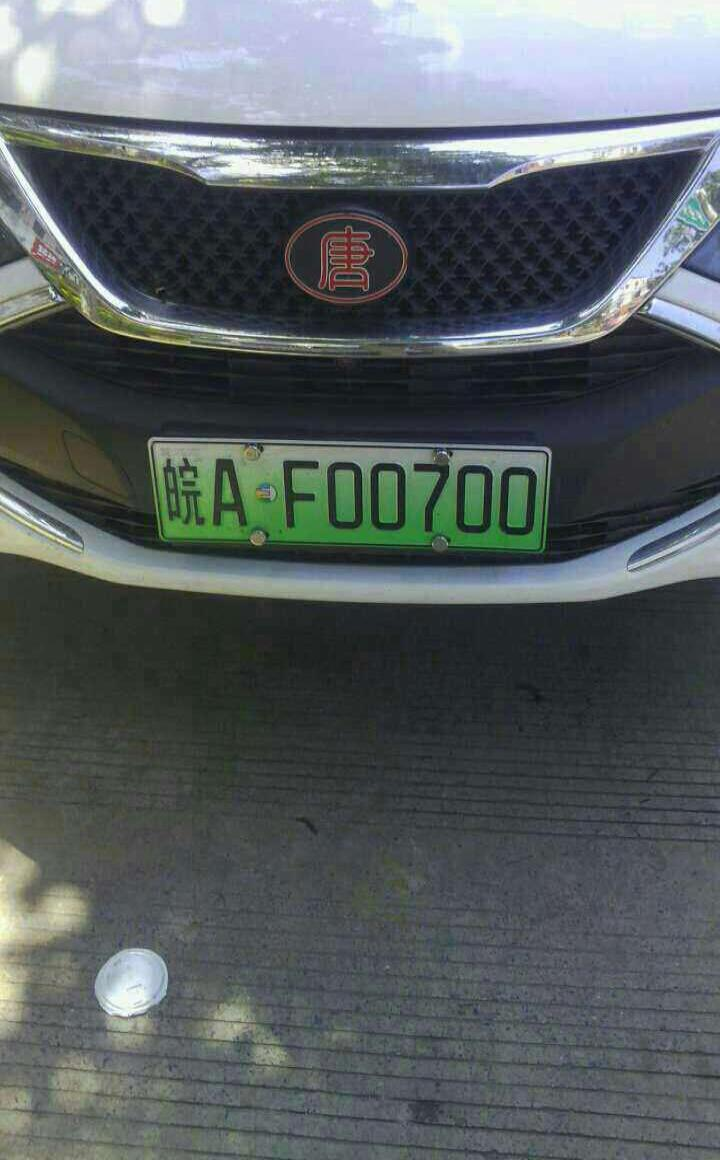car_id: (145, 438, 549, 551)
